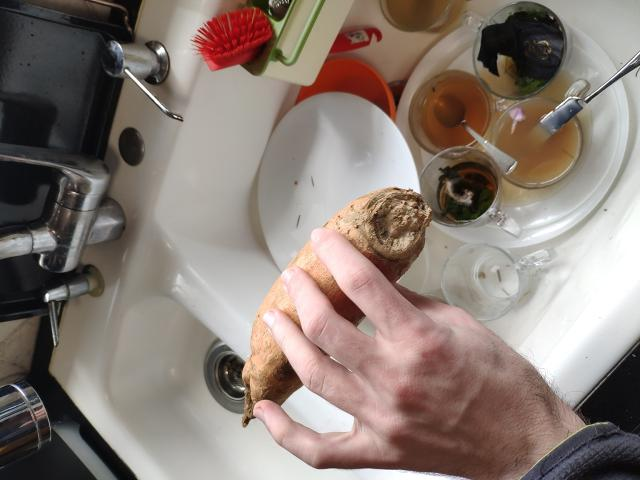sweet_potato: (241, 194, 426, 428)
